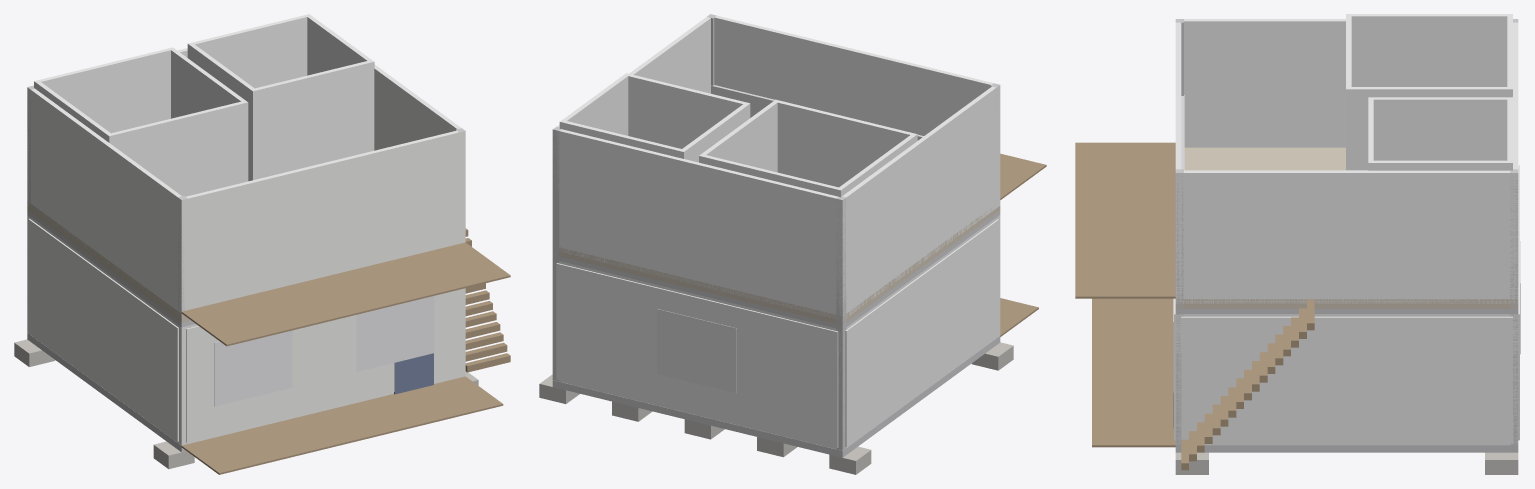
The model's file is Duplex-20-Premium+FullSolar-LOD3.glb.
3 renders of one model, left to right at view 1: azimuth 30°, elevation 25°; view 2: azimuth 150°, elevation 25°; view 3: azimuth 270°, elevation 25°, orthographic. The views are drawn at different scales.
Parts seen in each view (by area): view 1: ExteriorShellUpper, ExteriorPanelsPremium, StudyUpper, BedroomUpper, BalconyUpper, BalconyGround, WindowsLargeUpgrade, StaircaseExternal, ExteriorShell, FoundationBlocks, FloorUpper, EntryDoor (+3 smaller); view 2: ExteriorShellUpper, ExteriorPanelsPremium, BedroomUpper, StudyUpper, WindowsLargeUpgrade, FloorUpper, VerticalStructure, FoundationBlocks, BaseFrame, ExteriorShell, TopFrame, BalconyUpper (+2 smaller); view 3: ExteriorShellUpper, ExteriorPanelsPremium, BalconyUpper, BedroomUpper, BalconyGround, StudyUpper, FloorUpper, StaircaseExternal, ExteriorShell, VerticalStructure, BaseFrame, TopFrame (+1 smaller).
Boxes of the visible parts, box(x1,y1,x2,y2) form: ExteriorShellUpper: box(27, 48, 465, 315); ExteriorPanelsPremium: box(28, 218, 461, 442); StudyUpper: box(187, 14, 374, 181); BedroomUpper: box(34, 47, 248, 196); BalconyUpper: box(181, 242, 510, 346); BalconyGround: box(181, 376, 503, 474); WindowsLargeUpgrade: box(214, 296, 434, 406); StaircaseExternal: box(465, 228, 510, 372); ExteriorShell: box(27, 214, 465, 445); FoundationBlocks: box(14, 339, 478, 469); FloorUpper: box(27, 201, 190, 322); EntryDoor: box(394, 353, 433, 394); ExteriorShellUpper: box(553, 15, 1000, 320); ExteriorPanelsPremium: box(556, 219, 999, 447); BedroomUpper: box(699, 99, 917, 197); StudyUpper: box(559, 73, 750, 162); WindowsLargeUpgrade: box(657, 309, 736, 393); FloorUpper: box(559, 206, 1000, 324); VerticalStructure: box(552, 14, 999, 450); FoundationBlocks: box(539, 342, 1013, 474); BaseFrame: box(552, 336, 1000, 457); ExteriorShell: box(559, 215, 1000, 448); TopFrame: box(559, 210, 1000, 329); BalconyUpper: box(1000, 153, 1046, 199); ExteriorShellUpper: box(1175, 19, 1518, 303); ExteriorPanelsPremium: box(1174, 165, 1519, 443); BalconyUpper: box(1075, 142, 1175, 298); BedroomUpper: box(1346, 14, 1512, 170); BalconyGround: box(1092, 298, 1175, 447); StudyUpper: box(1368, 97, 1512, 170); FloorUpper: box(1176, 147, 1518, 308); StaircaseExternal: box(1181, 299, 1314, 470); ExteriorShell: box(1175, 314, 1518, 445); VerticalStructure: box(1175, 19, 1518, 445); BaseFrame: box(1175, 445, 1518, 452); TopFrame: box(1175, 309, 1518, 313).
Bounding box in the file's own units: 7.94 × 6 × 8.
